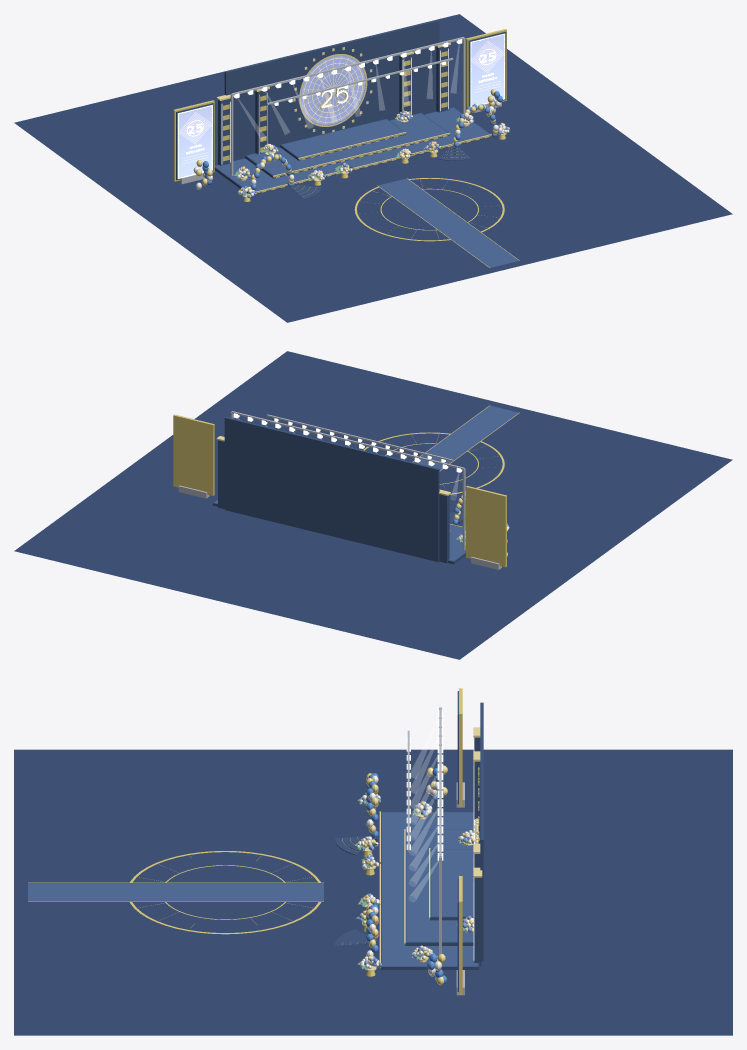
Rendered from compound.glb.
3 views of the same model, one above another, from view 1: azimuth 30°, elevation 25°; view 2: azimuth 150°, elevation 25°; view 3: azimuth 270°, elevation 25° (orthographic). The views are drawn at different scales.
Parts seen in each view (by area): view 1: floor, backdrop, stage, screens, rig, pillars, balloons, florals; view 2: floor, backdrop, screens, rig, pillars, stage; view 3: floor, stage, rig, florals, balloons, pillars, screens, backdrop.
Boxes of the visible parts, x1,y1,x2,y2 form: floor: (14, 14, 732, 322); backdrop: (224, 19, 439, 160); stage: (214, 107, 491, 199); screens: (173, 29, 506, 184); rig: (230, 37, 465, 175); pillars: (216, 42, 450, 165); balloons: (193, 89, 502, 197); florals: (234, 110, 511, 201); floor: (14, 351, 732, 659); backdrop: (224, 417, 439, 561); screens: (173, 414, 506, 569); rig: (230, 411, 465, 550); pillars: (216, 436, 450, 563); stage: (212, 499, 465, 564); floor: (14, 749, 732, 1035); stage: (334, 811, 479, 969); rig: (406, 707, 443, 963); florals: (355, 792, 479, 976); balloons: (366, 765, 447, 985); pillars: (473, 727, 482, 966); screens: (456, 688, 464, 995); backdrop: (473, 702, 483, 961).
Size of the model in its own units: 96 by 19 by 102.
19 materials, 2 textured.
